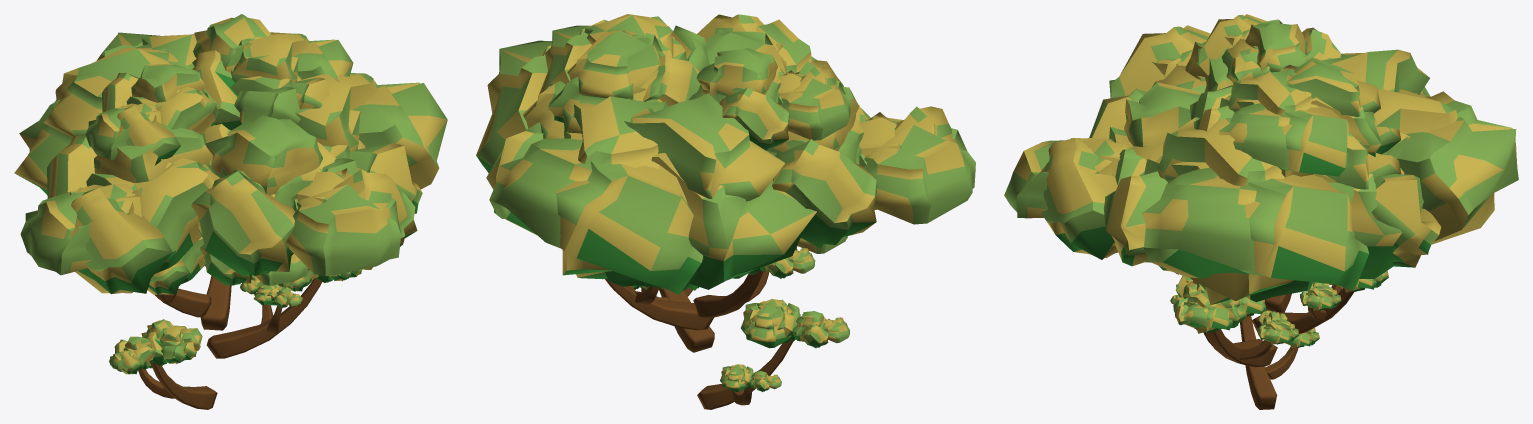
File: TreeTop0.1.fbx
3 views of the same model, side by side, from view 1: azimuth 30°, elevation 25°; view 2: azimuth 150°, elevation 25°; view 3: azimuth 270°, elevation 25° (orthographic). The views are drawn at different scales.
Parts seen in each view (by area): view 1: pasted__pasted__polySurface47, pasted__pCube4 (×2), pasted__pasted__polySurface32, pasted__pasted__polySurface46, pasted__pasted__pCube4 (×2), pCube4, pasted__pasted__polySurface34, pasted__pasted__polySurface26; view 2: pasted__pasted__polySurface47, pasted__pasted__polySurface32, pasted__pCube4 (×2), pCube4, pasted__pasted__pCube4, pasted__pasted__polySurface36, pasted__pasted__polySurface30; view 3: pasted__pasted__polySurface47, pasted__pasted__polySurface26, pasted__pCube4 (×2), pasted__pasted__polySurface33, pCube4, pasted__pasted__polySurface35, pasted__pasted__pCube4.
Boxes of the visible parts, left/top/right/bottom form: pasted__pasted__polySurface47: left=14, top=14, right=447, bottom=294; pasted__pCube4 (×2): left=149, top=278, right=321, bottom=409; pasted__pasted__polySurface32: left=109, top=319, right=202, bottom=374; pasted__pasted__polySurface46: left=147, top=237, right=309, bottom=294; pasted__pasted__pCube4 (×2): left=138, top=288, right=211, bottom=398; pCube4: left=200, top=275, right=231, bottom=330; pasted__pasted__polySurface34: left=253, top=284, right=302, bottom=307; pasted__pasted__polySurface26: left=278, top=269, right=362, bottom=291; pasted__pasted__polySurface47: left=476, top=14, right=975, bottom=294; pasted__pasted__polySurface32: left=741, top=299, right=849, bottom=348; pasted__pCube4 (×2): left=659, top=288, right=792, bottom=409; pCube4: left=605, top=278, right=713, bottom=330; pasted__pasted__pCube4: left=693, top=270, right=762, bottom=318; pasted__pasted__polySurface36: left=720, top=364, right=781, bottom=391; pasted__pasted__polySurface30: left=733, top=248, right=815, bottom=278; pasted__pasted__polySurface47: left=1004, top=14, right=1518, bottom=305; pasted__pasted__polySurface26: left=1173, top=276, right=1246, bottom=333; pasted__pCube4 (×2): left=1205, top=316, right=1277, bottom=409; pasted__pasted__polySurface33: left=1257, top=310, right=1299, bottom=344; pCube4: left=1251, top=288, right=1353, bottom=334; pasted__pasted__polySurface35: left=1300, top=282, right=1341, bottom=310; pasted__pasted__pCube4: left=1265, top=346, right=1298, bottom=379.
Size of the model in its own units: 78.33 by 63.45 by 78.71.
